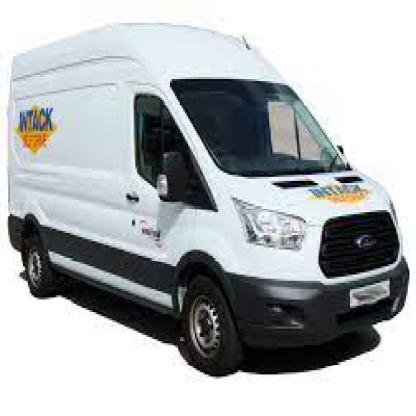van: (6, 27, 410, 377)
